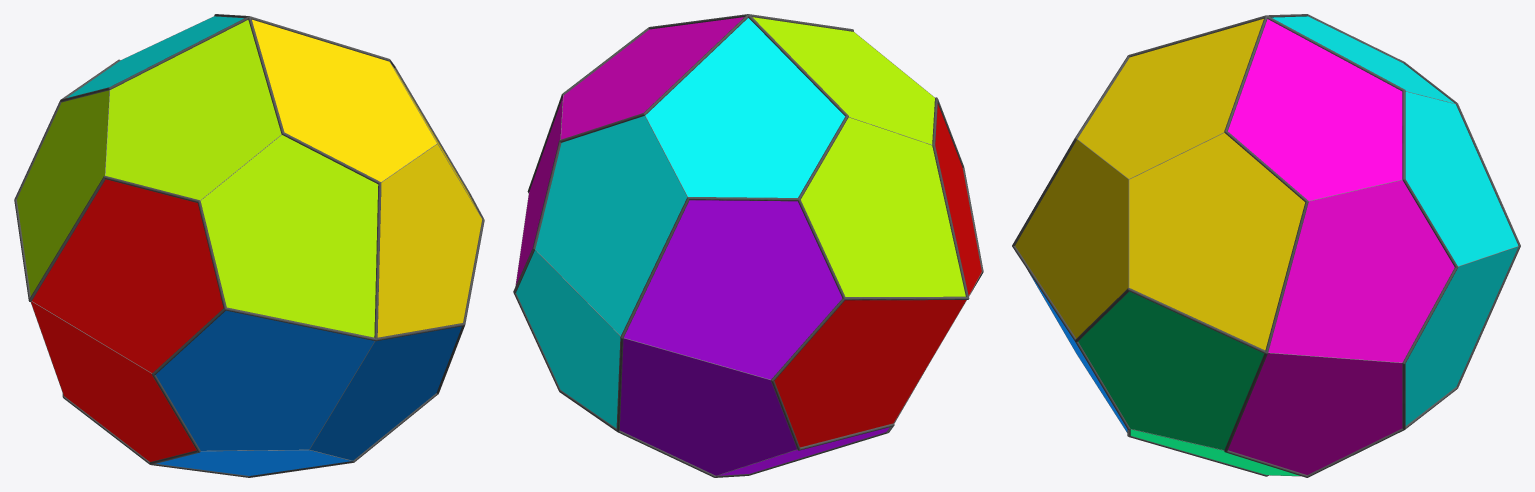
File: PentagonalIcositetrahedron_puzzle_solution_boundary.glb
3 views of the same model, side by side, from view 1: azimuth 30°, elevation 25°; view 2: azimuth 150°, elevation 25°; view 3: azimuth 270°, elevation 25° (orthographic).
Size of the model in its own units: 4.62 by 4.62 by 4.62.
